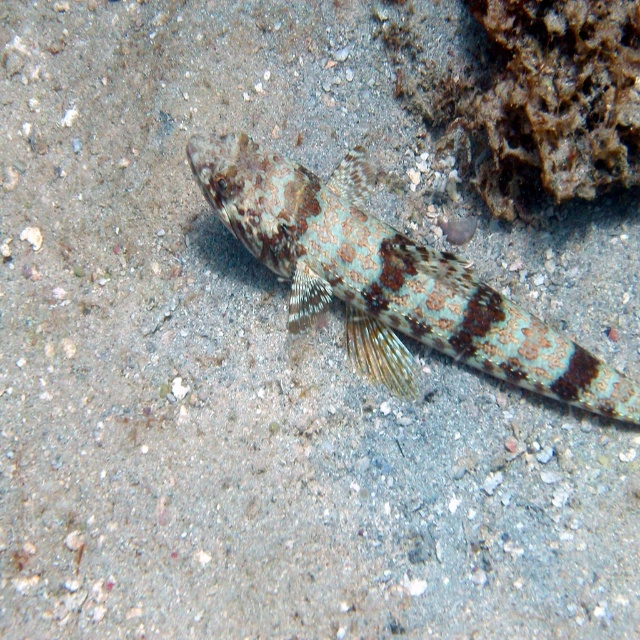Fish: (191, 129, 599, 453)
